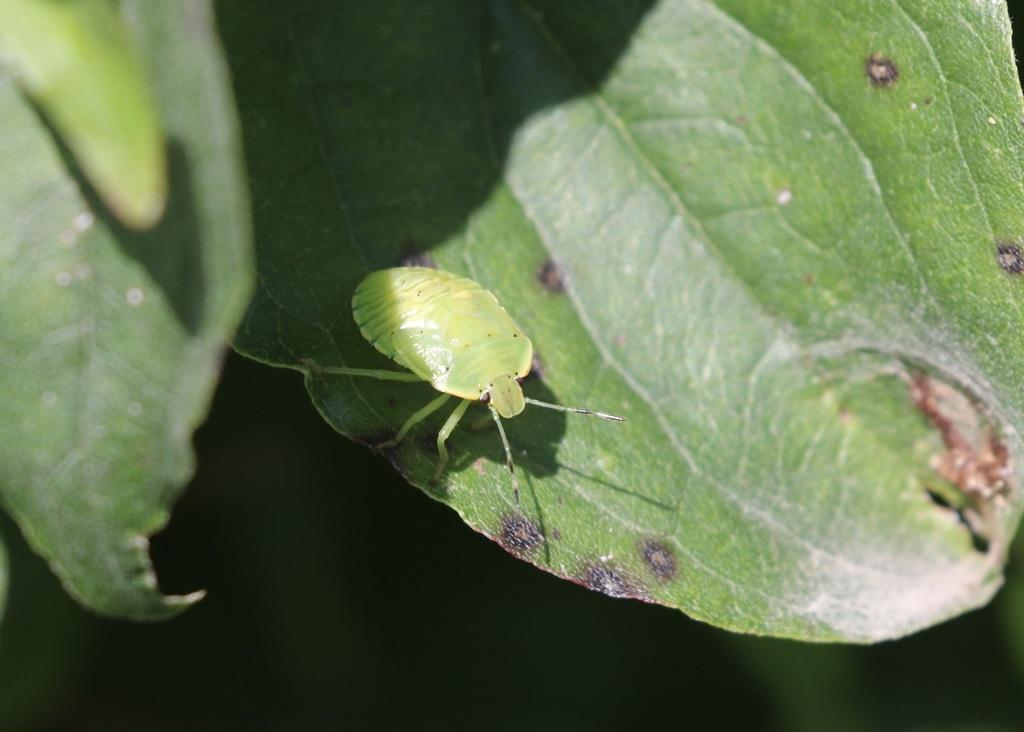stink_bugs: (300, 214, 654, 544)
